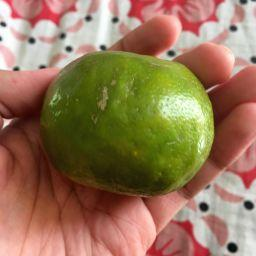Unripe: (41, 49, 215, 197)
